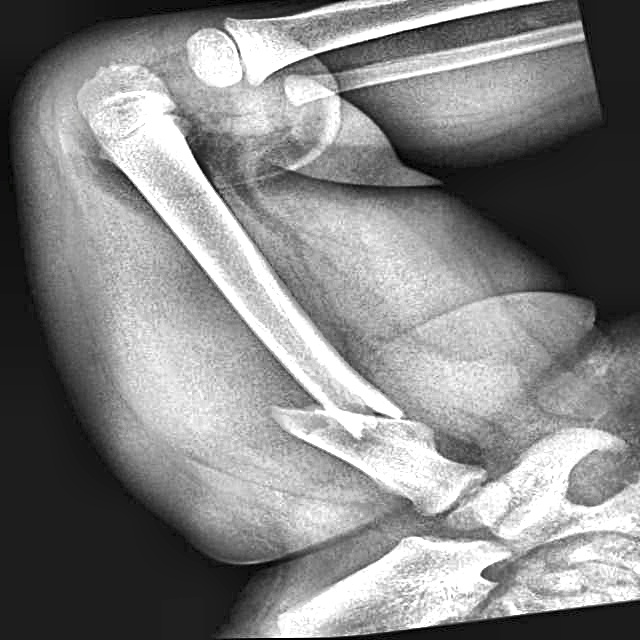Oblique: (250, 375, 442, 481)
